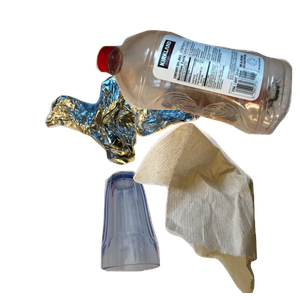glass: (98, 168, 251, 300)
metal: (42, 72, 239, 229)
plastic: (93, 27, 300, 154)
trash: (131, 120, 300, 300)
